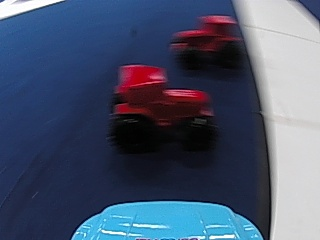tractor: (109, 58, 210, 154), (168, 14, 241, 71)
